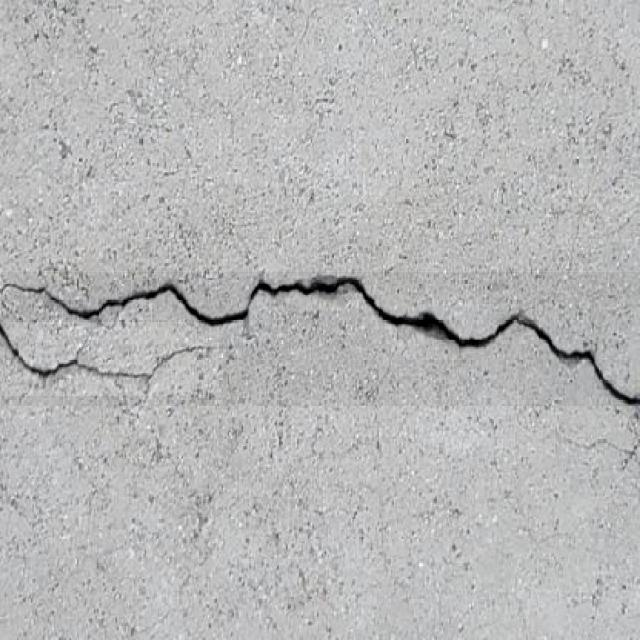horizontal crack: (1, 272, 640, 406), (0, 324, 232, 416)
